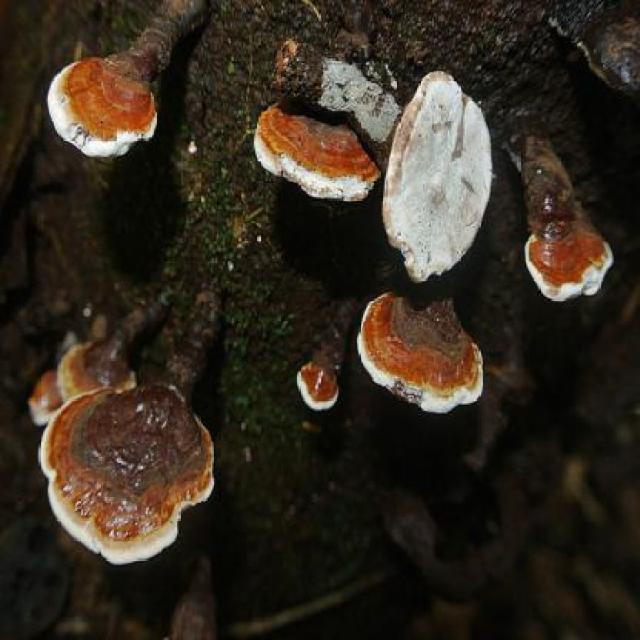Mushroom: (38, 289, 214, 568), (383, 70, 494, 284), (508, 138, 612, 302), (358, 296, 482, 416), (254, 105, 380, 201), (48, 54, 160, 158), (292, 352, 338, 410)
